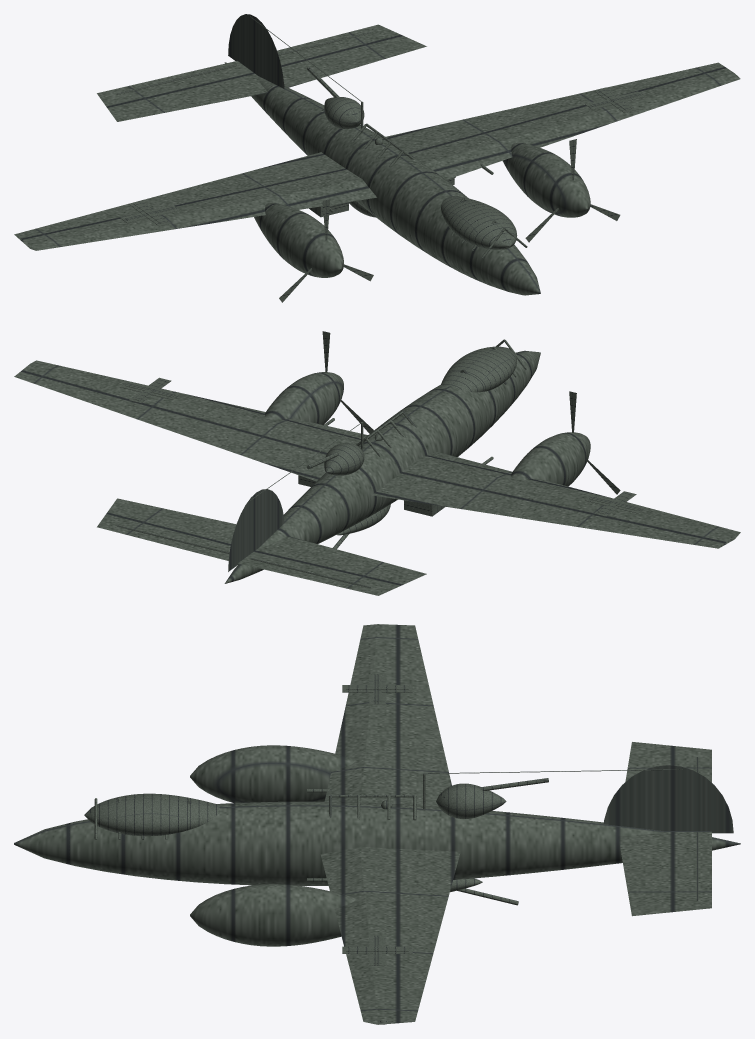
Rendered from wreck.gltf.
3 renders of one model, top to bottom at view 1: azimuth 30°, elevation 25°; view 2: azimuth 150°, elevation 25°; view 3: azimuth 270°, elevation 25°, orthographic. The views are drawn at different scales.
Visible parts, largest first — view 1: he111_wreck, he111_wreck.002, he111_wreck.001; view 2: he111_wreck; view 3: he111_wreck.
Boxes of the visible parts, x1,y1,x2,y2 form: he111_wreck: (14, 14, 740, 295); he111_wreck.002: (525, 139, 620, 242); he111_wreck.001: (279, 199, 373, 302); he111_wreck: (14, 339, 740, 595); he111_wreck: (14, 624, 740, 1024).
Size of the model in its own units: 40 by 6.6 by 31.
Materials: 1 (1 with a texture image).
